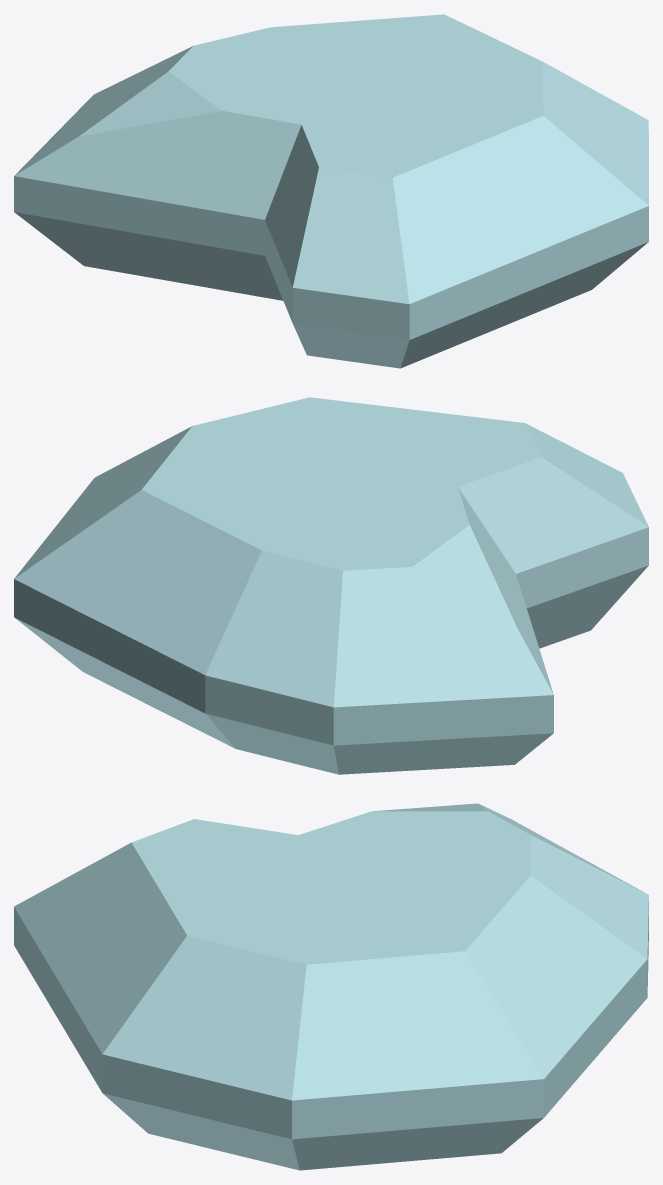
File: stone_largeC.dae
3 renders of one model, top to bottom at view 1: azimuth 30°, elevation 25°; view 2: azimuth 150°, elevation 25°; view 3: azimuth 270°, elevation 25°, orthographic. The views are drawn at different scales.
Visible parts, largest first — view 1: stone_largeC; view 2: stone_largeC; view 3: stone_largeC.
Boxes of the visible parts, left/top/right/bottom form: stone_largeC: left=14, top=14, right=648, bottom=368; stone_largeC: left=14, top=397, right=648, bottom=774; stone_largeC: left=14, top=803, right=648, bottom=1170.
Size of the model in its own units: 1.06 by 0.3211 by 1.02.
